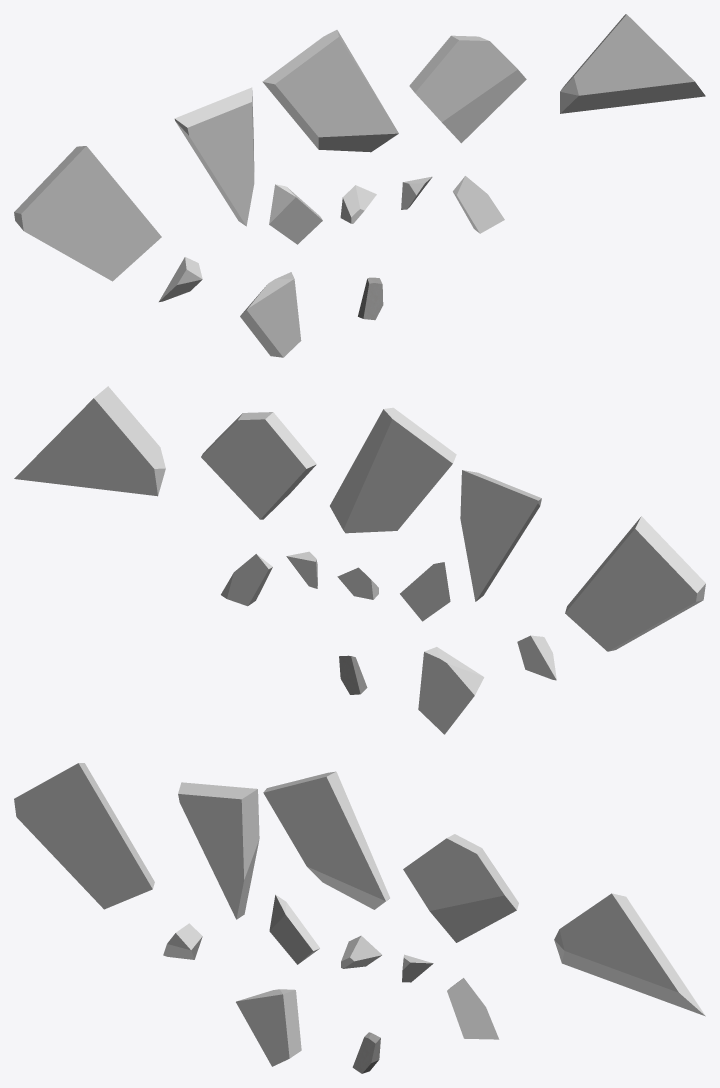
The model's file is Glass_cell.fbx.
3 views of the same model, one above another, from view 1: azimuth 30°, elevation 25°; view 2: azimuth 150°, elevation 25°; view 3: azimuth 330°, elevation 25° (orthographic).
Visible parts, largest first — view 1: glass_cell.001, glass_cell.002, glass_cell.004, glass_cell.006, glass_cell.011, glass_cell.010, glass_cell.012, glass_cell, glass_cell.008, glass_cell.003, glass_cell.007, glass_cell.013; view 2: glass_cell.001, glass_cell.002, glass_cell.004, glass_cell.006, glass_cell.011, glass_cell.010, glass_cell.012, glass_cell, glass_cell.008, glass_cell.003, glass_cell.007, glass_cell.013; view 3: glass_cell.001, glass_cell.002, glass_cell.004, glass_cell.006, glass_cell.011, glass_cell.010, glass_cell, glass_cell.012, glass_cell.008, glass_cell.003, glass_cell.007, glass_cell.013.
Boxes of the visible parts, x1,y1,x2,y2 form: glass_cell.001: [14, 146, 161, 281]; glass_cell.002: [262, 30, 398, 152]; glass_cell.004: [560, 14, 705, 113]; glass_cell.006: [409, 35, 526, 143]; glass_cell.011: [174, 87, 254, 226]; glass_cell.010: [240, 272, 301, 357]; glass_cell.012: [269, 184, 322, 244]; glass_cell: [453, 176, 504, 233]; glass_cell.008: [159, 257, 202, 301]; glass_cell.003: [340, 185, 376, 223]; glass_cell.007: [358, 277, 383, 320]; glass_cell.013: [401, 176, 432, 209]; glass_cell.001: [565, 516, 705, 651]; glass_cell.002: [330, 407, 456, 533]; glass_cell.004: [14, 386, 165, 496]; glass_cell.006: [201, 412, 316, 519]; glass_cell.011: [460, 470, 541, 601]; glass_cell.010: [418, 647, 484, 734]; glass_cell.012: [400, 562, 450, 621]; glass_cell: [221, 554, 272, 606]; glass_cell.008: [517, 635, 556, 680]; glass_cell.003: [337, 567, 378, 599]; glass_cell.007: [339, 655, 367, 694]; glass_cell.013: [286, 551, 317, 588]; glass_cell.001: [14, 763, 154, 909]; glass_cell.002: [263, 771, 389, 909]; glass_cell.004: [554, 893, 705, 1016]; glass_cell.006: [403, 834, 518, 942]; glass_cell.011: [178, 782, 259, 919]; glass_cell.010: [236, 989, 301, 1066]; glass_cell: [447, 978, 499, 1039]; glass_cell.012: [269, 894, 319, 964]; glass_cell.008: [163, 923, 202, 959]; glass_cell.003: [341, 935, 382, 968]; glass_cell.007: [352, 1032, 380, 1073]; glass_cell.013: [402, 954, 433, 982].
Size of the model in its own units: 3.42 by 1.47 by 0.0883.
